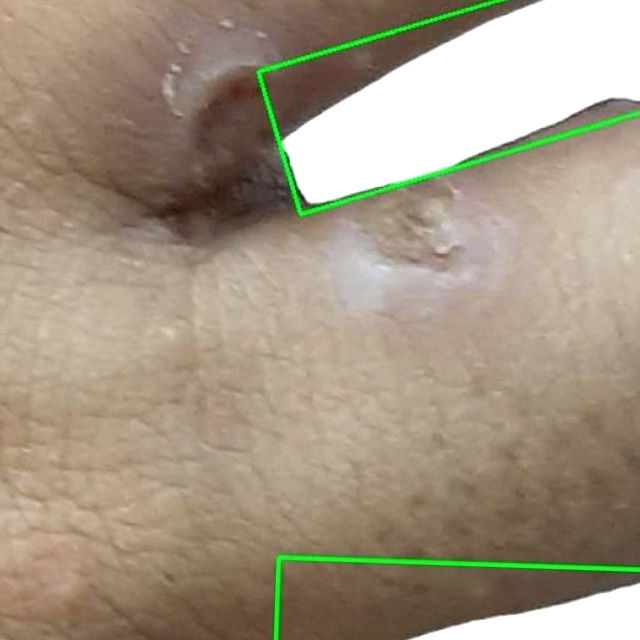Scabies: (259, 0, 639, 213)
